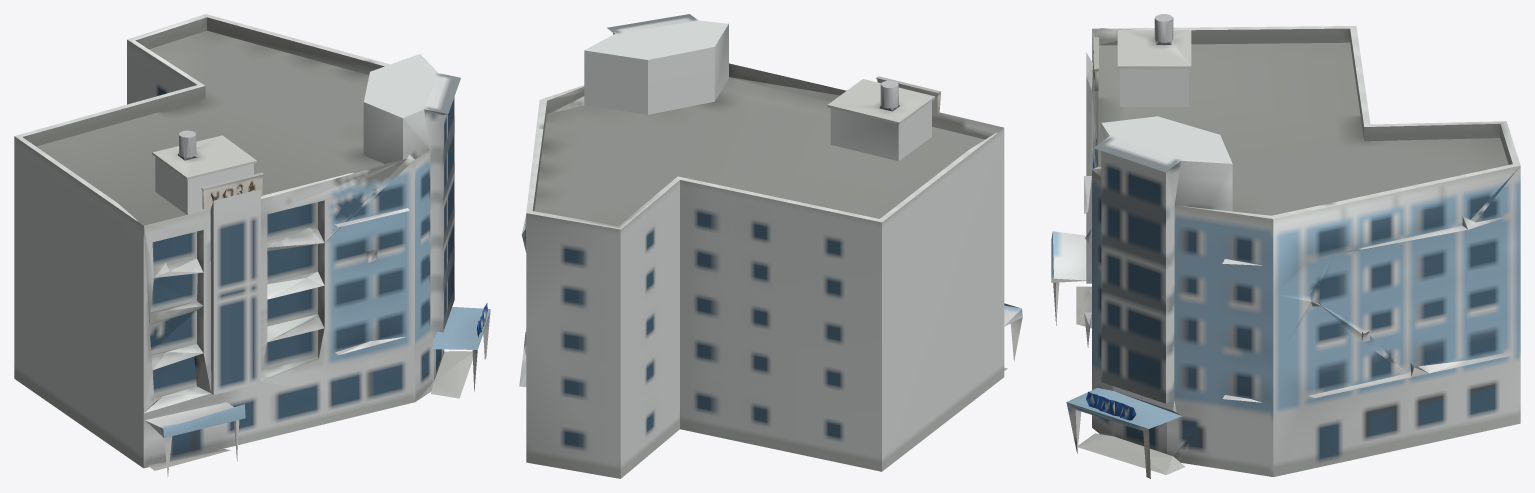
Rendered from cang_vu_vung_tau.far.glb.
3 views of the same model, side by side, from view 1: azimuth 30°, elevation 25°; view 2: azimuth 150°, elevation 25°; view 3: azimuth 270°, elevation 25° (orthographic). The views are drawn at different scales.
Parts seen in each view (by area): view 1: cang_vu_vung_tau; view 2: cang_vu_vung_tau; view 3: cang_vu_vung_tau.
Boxes of the visible parts, bbox=[...] form: cang_vu_vung_tau: bbox=[14, 14, 490, 477]; cang_vu_vung_tau: bbox=[519, 14, 1022, 478]; cang_vu_vung_tau: bbox=[1051, 14, 1520, 478].
Size of the model in its own units: 29.74 by 21.8 by 30.
Materials: 2 (2 with a texture image).
